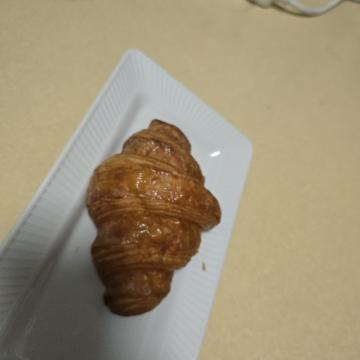croissant: (115, 131, 327, 281)
